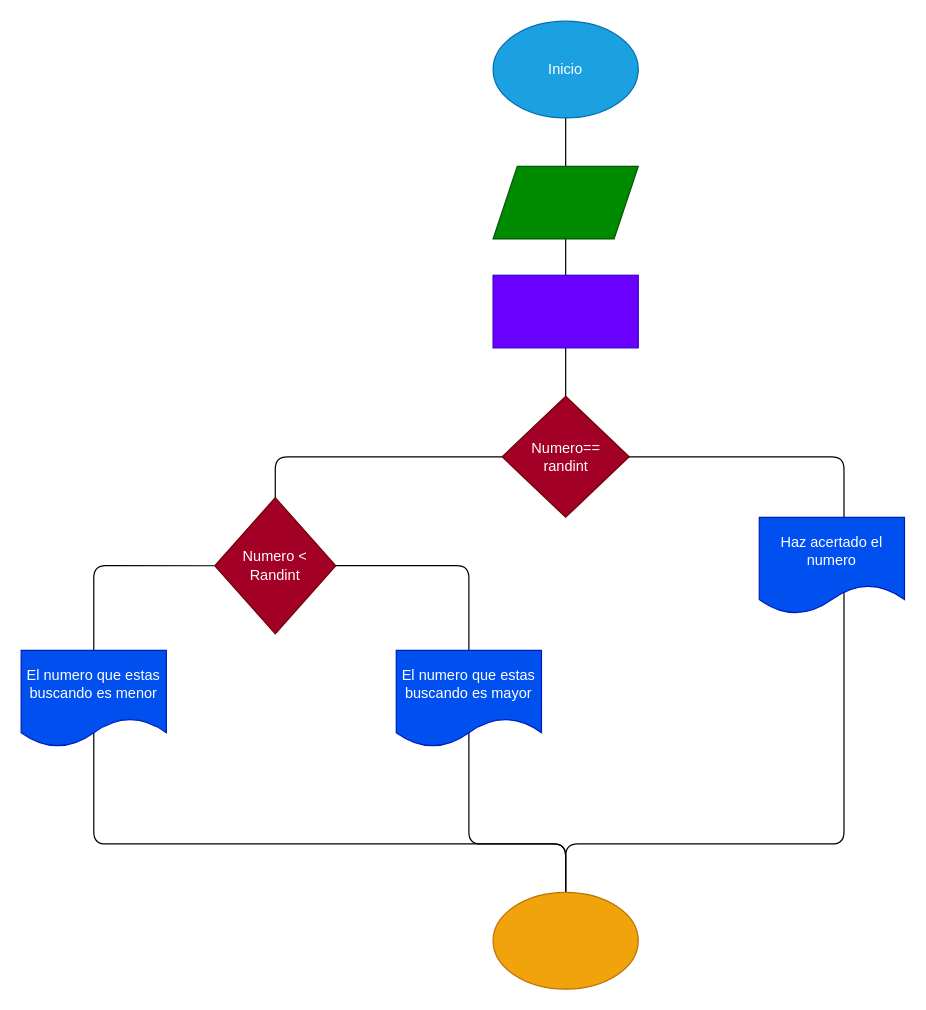
Some shapes in this 926 by 1010 pixel diagram are drawn without their labels. Here are the shapes that lost their labels. From the top down, the centre of each, then its label:
At [565,202]: "Numero".
At [565,311]: "randint (0,10)".
At [565,940]: "Fin".
